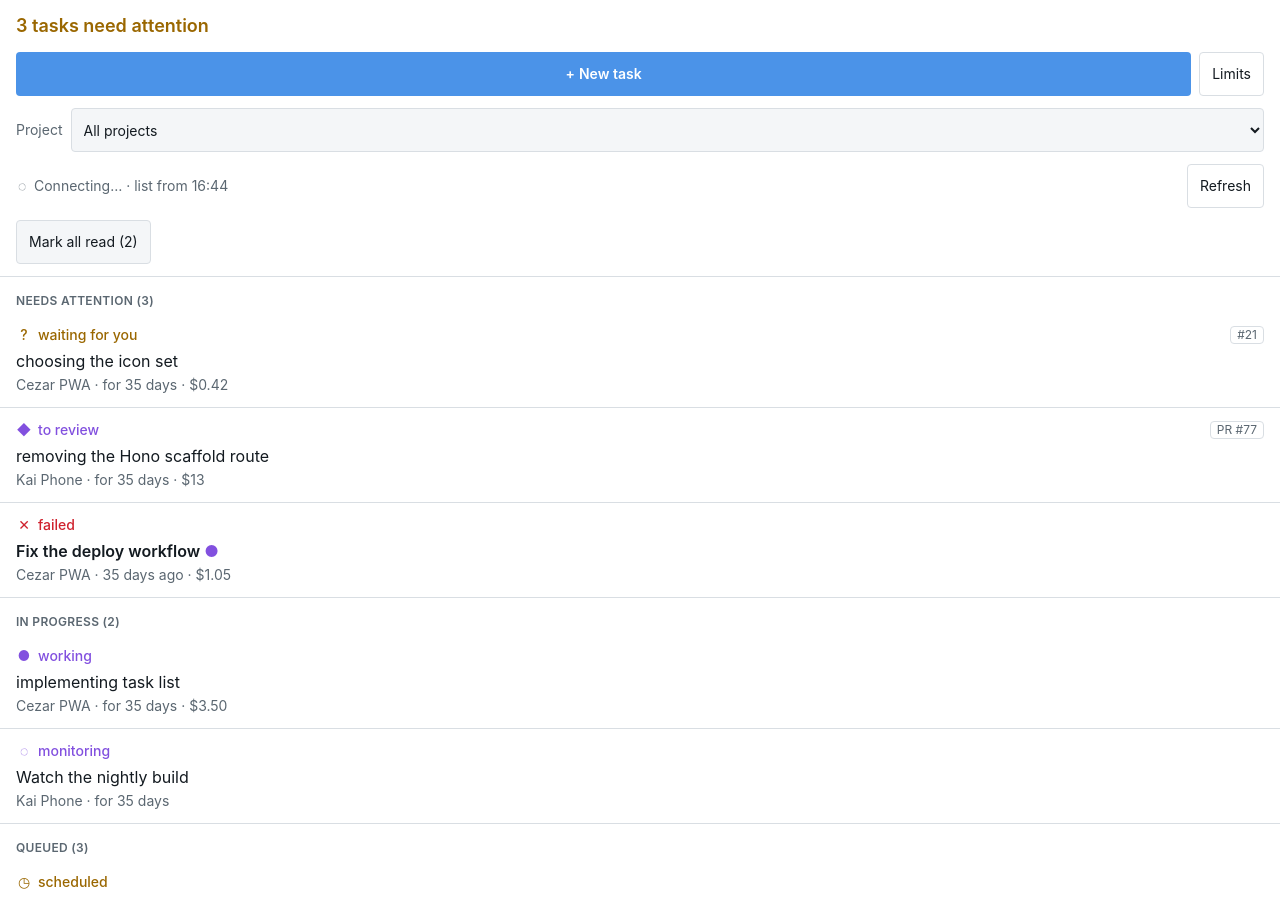
Test case: refreshing (FR-011) › keeps the list but says it is out of date when a refresh fails
Expected: the heading "3 tasks need attention" is shown, x1=16 y1=15 x2=209 y2=36
Click the button "Refresh". click: (1226, 186)
box: x1=1187 y1=164 x2=1264 y2=208
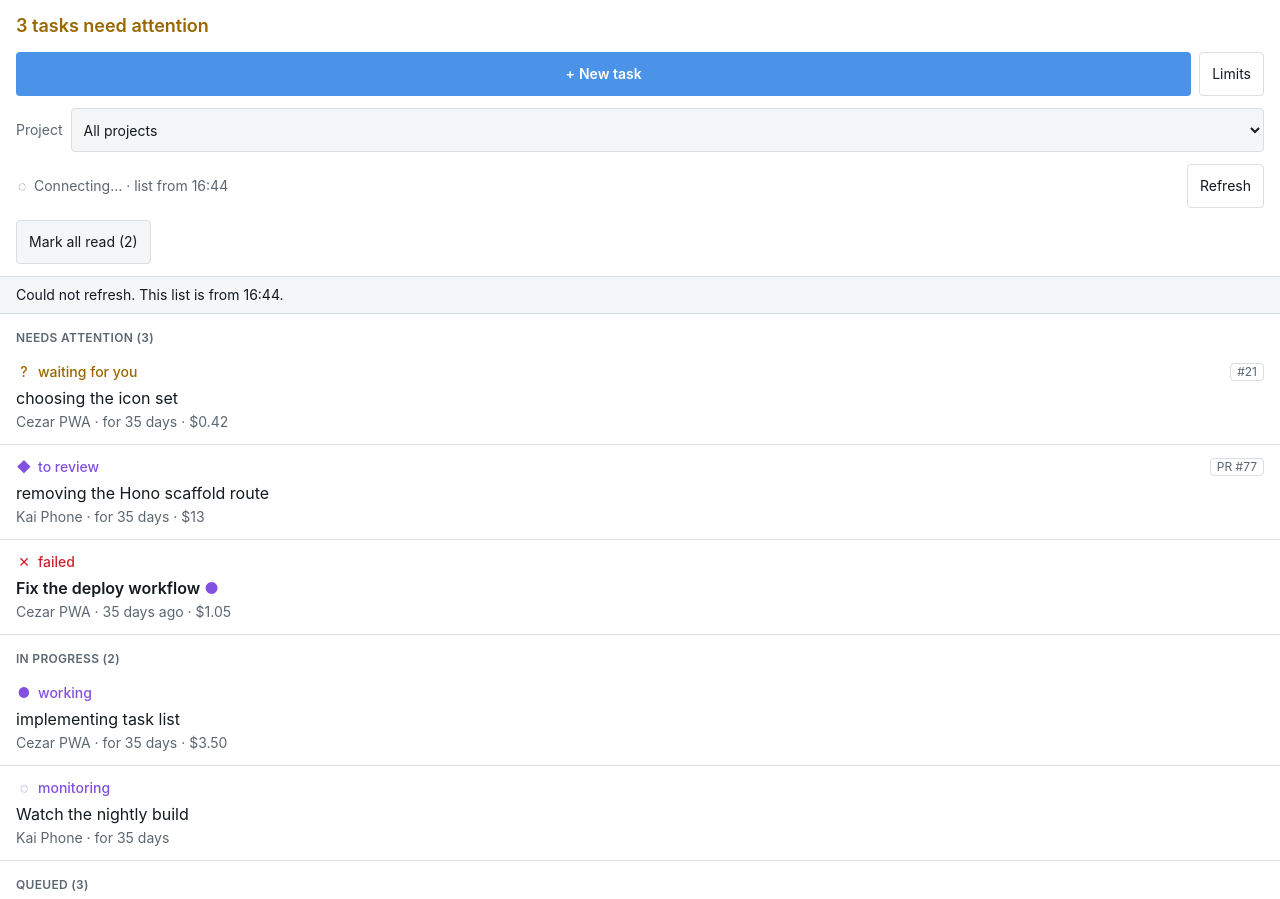
Now the message "Could not refresh. This list is from 16:44." is shown, box x1=0 y1=277 x2=1279 y2=314
